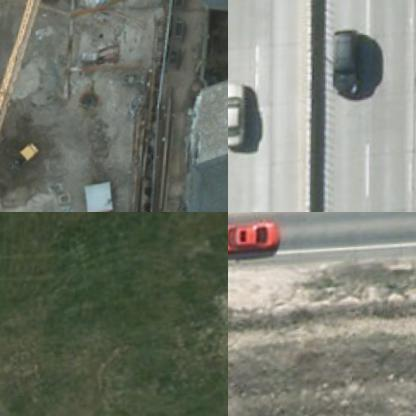car: (228, 219, 286, 256), (330, 36, 362, 95), (228, 85, 250, 152)
